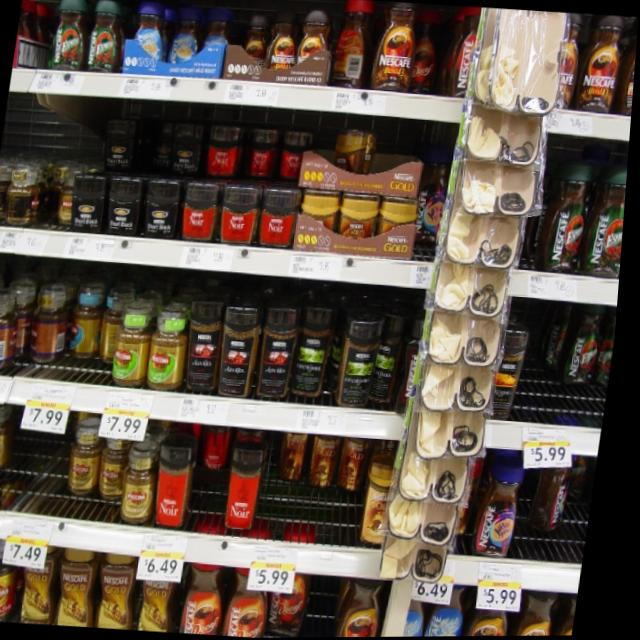q16: (183, 551, 239, 636), (230, 562, 285, 638)
